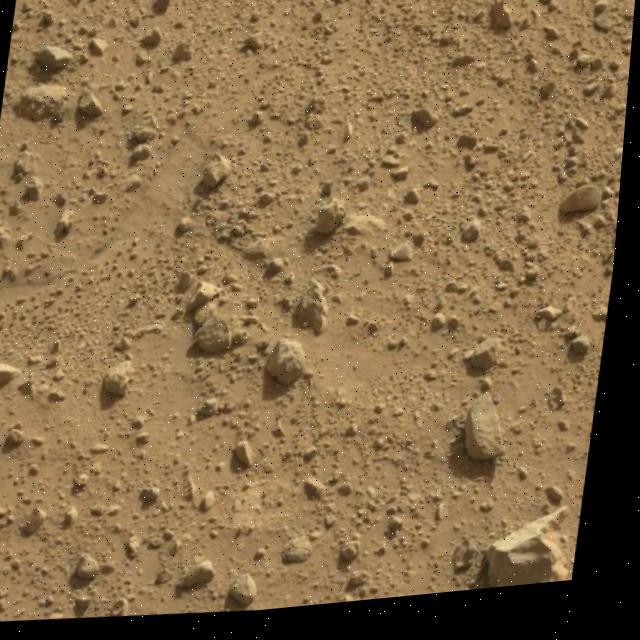mars-rocks: (499, 520, 579, 599), (473, 405, 514, 472), (271, 346, 312, 392), (0, 365, 26, 388)
